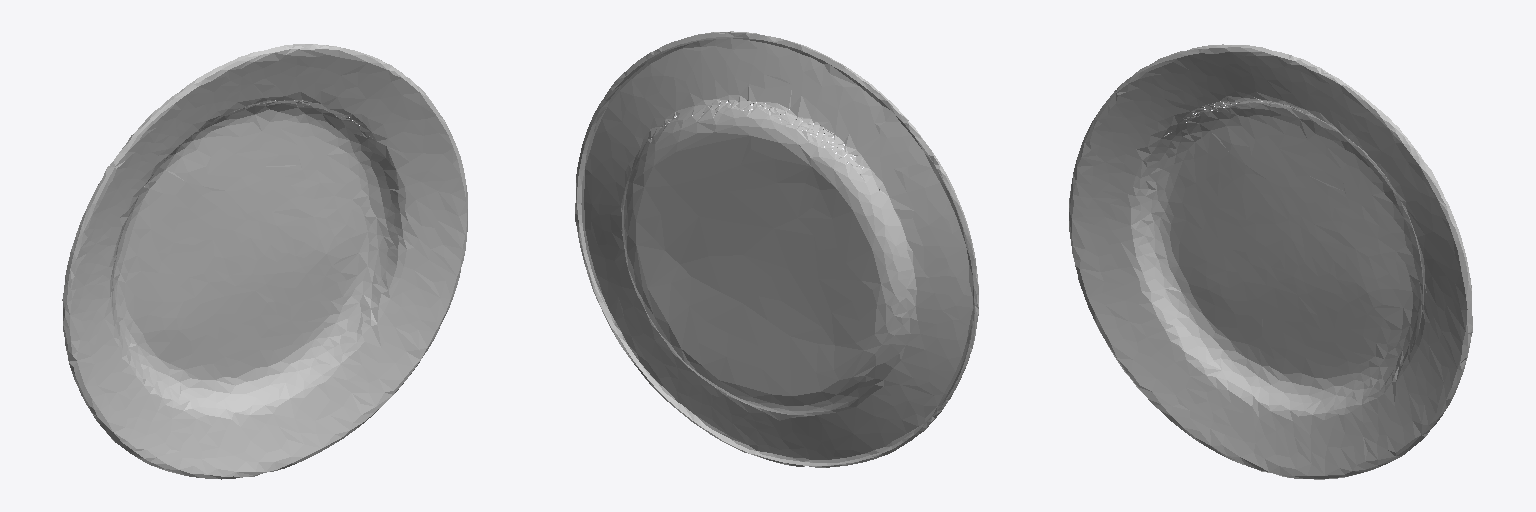
The model's file is plate.obj.
The picture shows the model from 3 angles: view 1: azimuth 30°, elevation 25°; view 2: azimuth 150°, elevation 25°; view 3: azimuth 330°, elevation 25°; orthographic projection.
Visible parts, largest first — view 1: plate; view 2: plate; view 3: plate.
Boxes of the visible parts, x1,y1,x2,y2 form: plate: [62, 44, 467, 479]; plate: [575, 31, 978, 467]; plate: [1069, 44, 1472, 479].
Size of the model in its own units: 0.2603 by 0.261 by 0.0268.